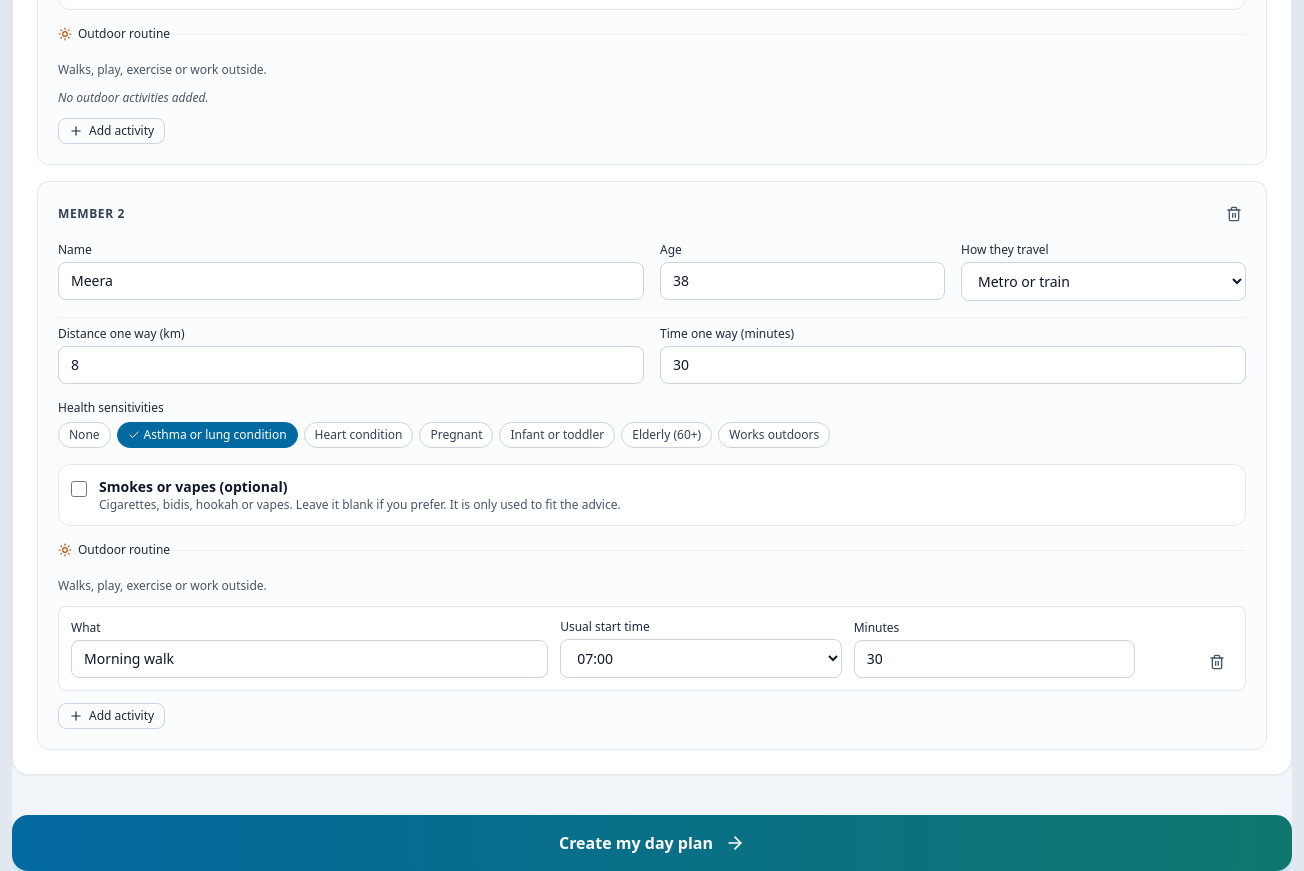
Test: HouseholdForm › outdoor routine › removes an activity
(page scrolled)
Click the button named "Remove activity 1 for Meera" at (1217, 662), box [1201, 646, 1233, 678]
(page scrolled)
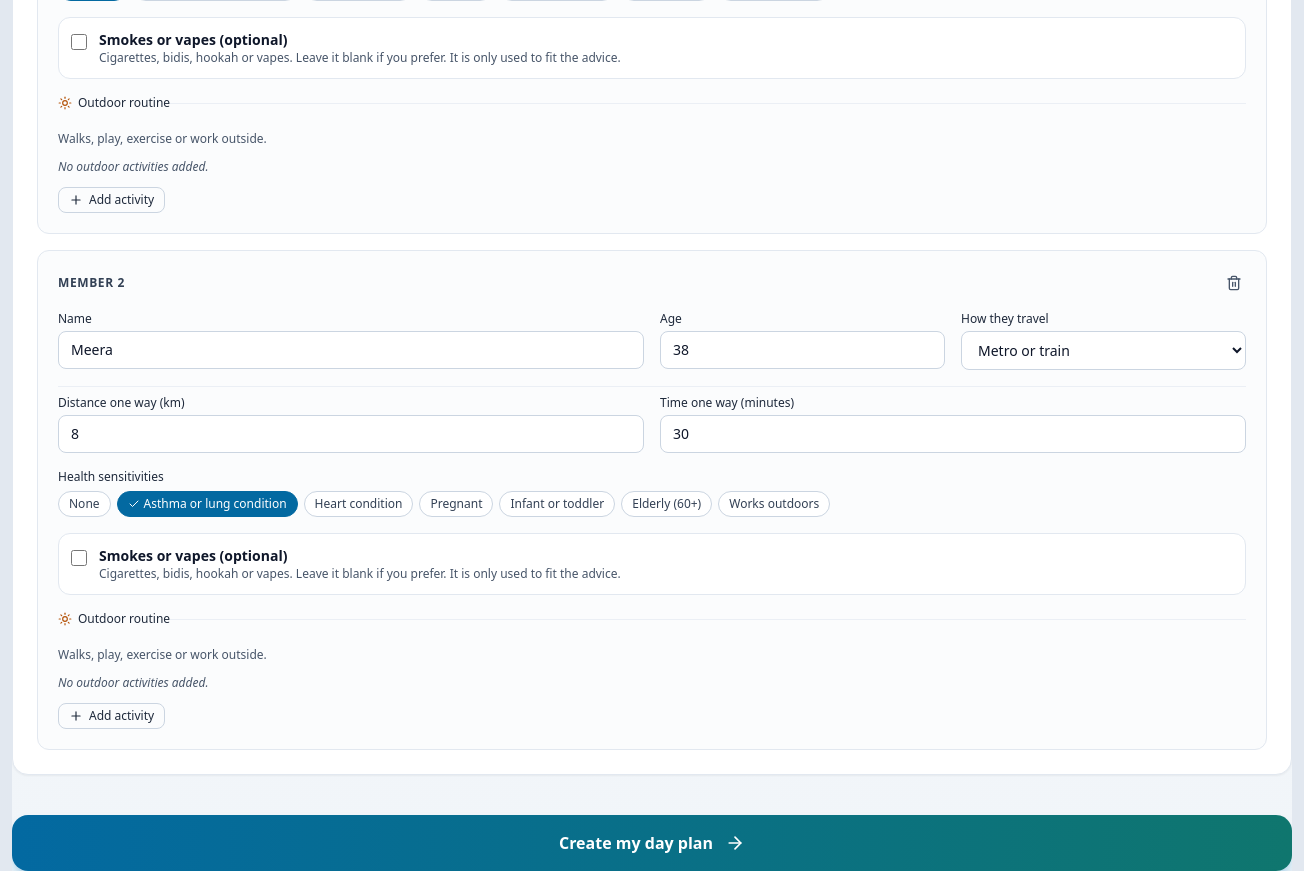
Check: the 2nd text "No outdoor activities added." is shown, box [58, 674, 208, 691]
